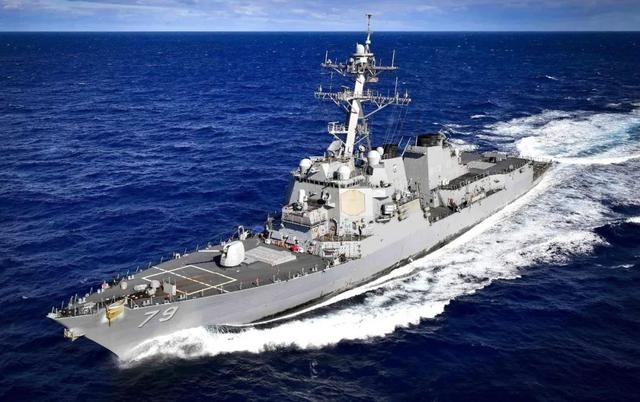warship: (41, 9, 554, 365)
